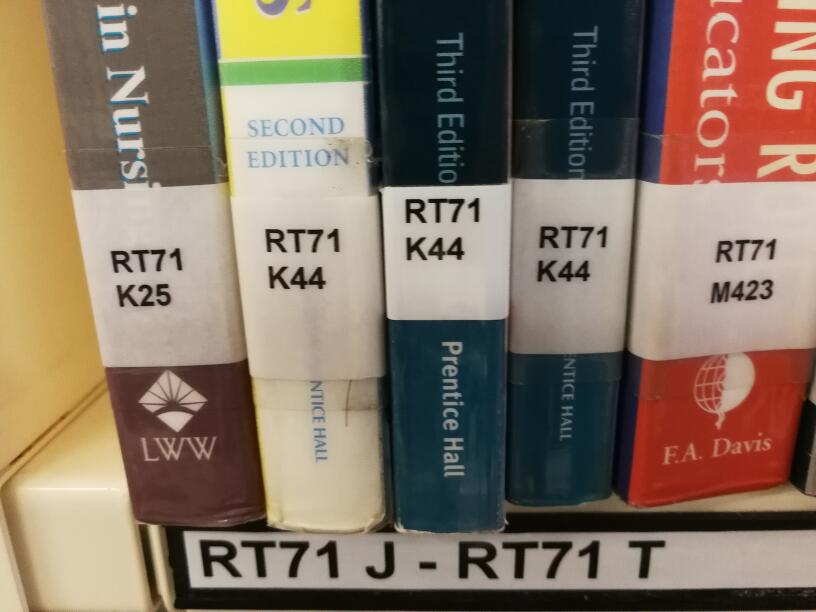booklabel: (262, 226, 342, 293), (402, 196, 482, 263), (107, 244, 187, 309), (534, 220, 611, 285), (707, 235, 777, 305)
